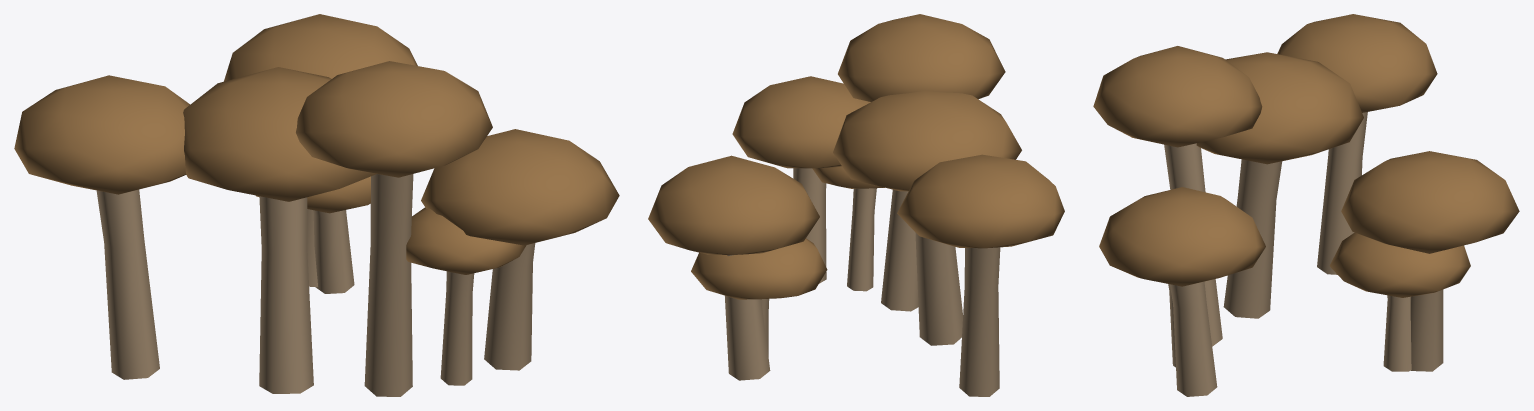
The model's file is brown_mushrooms_1_burnt1.glb.
3 views of the same model, side by side, from view 1: azimuth 30°, elevation 25°; view 2: azimuth 150°, elevation 25°; view 3: azimuth 270°, elevation 25° (orthographic). The views are drawn at different scales.
Parts seen in each view (by area): view 1: brown_mushrooms_1_burnt1; view 2: brown_mushrooms_1_burnt1; view 3: brown_mushrooms_1_burnt1.
Boxes of the visible parts, x1,y1,x2,y2 form: brown_mushrooms_1_burnt1: (14,14,619,396); brown_mushrooms_1_burnt1: (648,14,1064,396); brown_mushrooms_1_burnt1: (1093,14,1519,396).
Bounding box in the file's own units: 0.2834 × 0.1884 × 0.2594.
